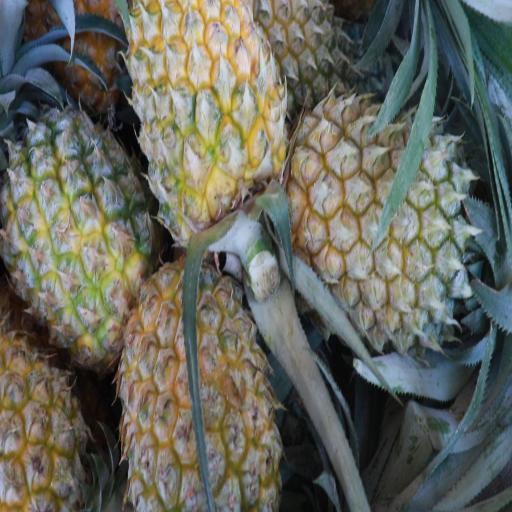------------------------------: (118, 260, 273, 512)
Pineapple - v8 v1: (130, 0, 284, 239), (4, 104, 150, 352), (0, 348, 94, 512)
